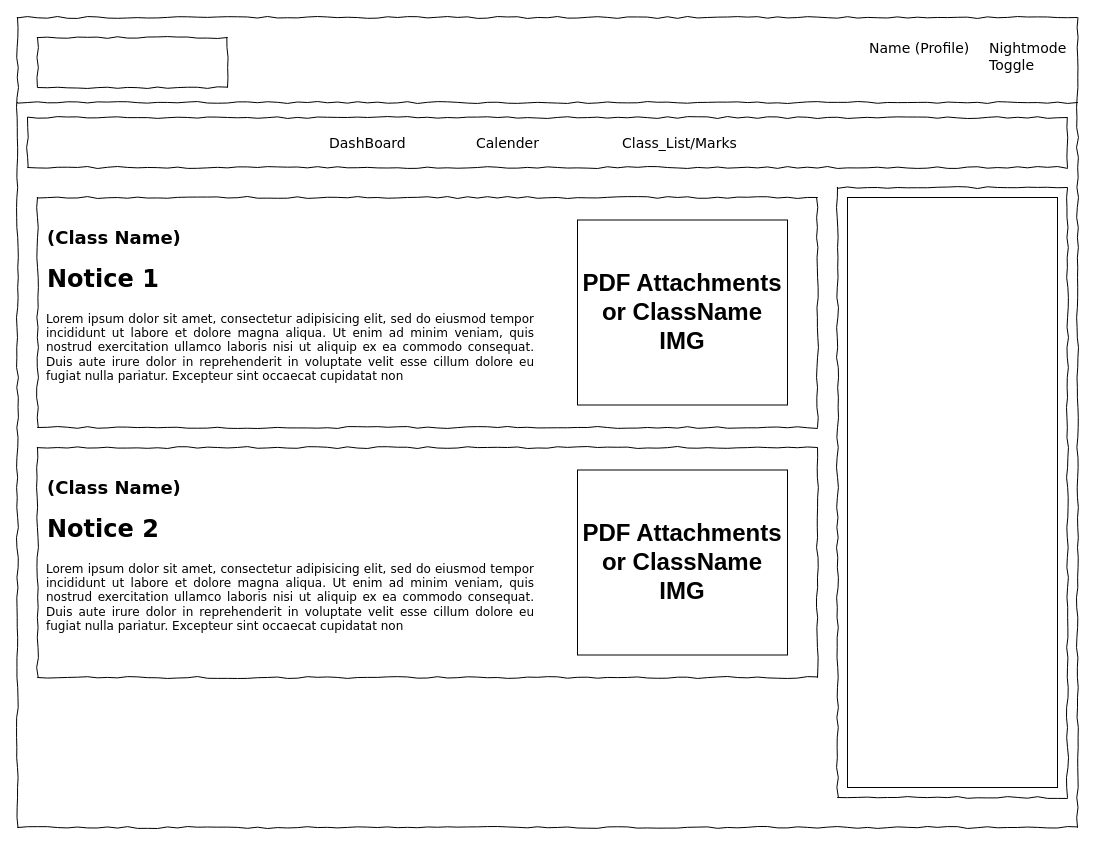
Some shapes in this 1095 by 845 pixel diagram are drawn without their labels. The shapes that lost their labels are listed below. From the top down, each one's centre as x and y in pixels, then its label:
At (132,62): "LOGO".
At (952,492): "ADD NEW NOTICE".
